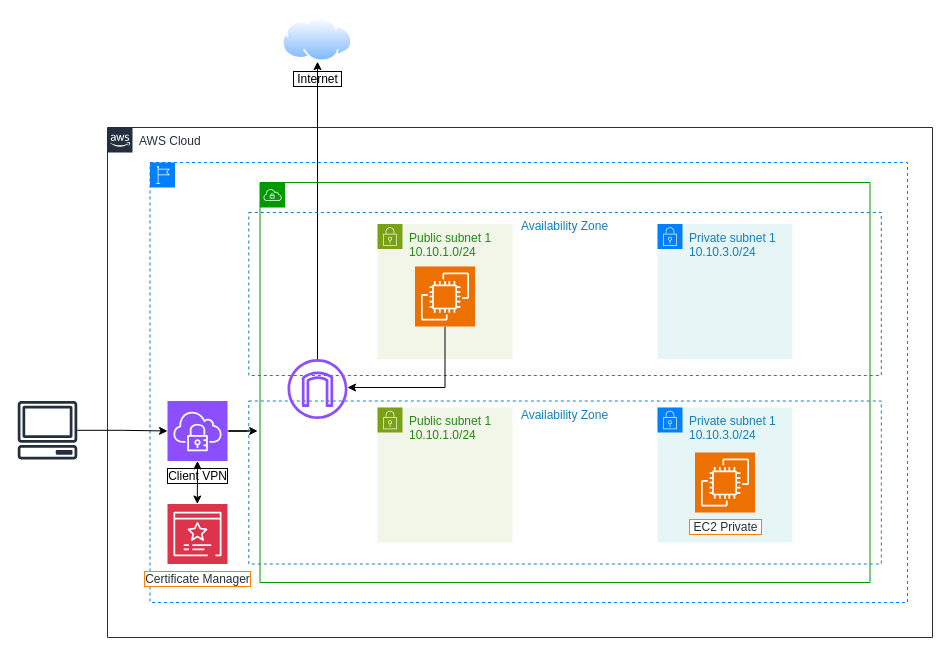
This 950x655 diagram has some shape labels left out. The shapes that lost their labels are listed below. From the top down, each one's box as (x1, y1, x2, y2) in pixels, then its label:
(414, 266, 475, 326): EC2 Public
(287, 358, 347, 418): Internet Gateway
(149, 162, 908, 602): Region Singapore
(259, 182, 870, 582): VPC 10.10.0.0/16
(17, 400, 77, 459): Client
